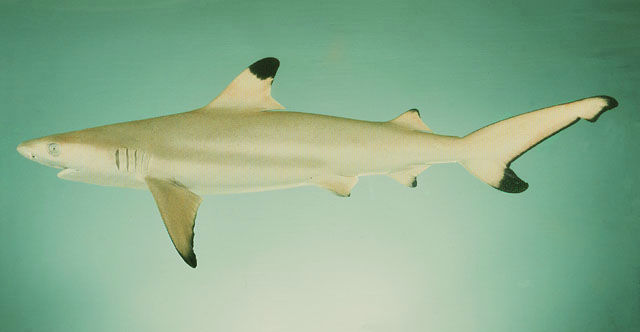fish: (15, 58, 618, 268)
